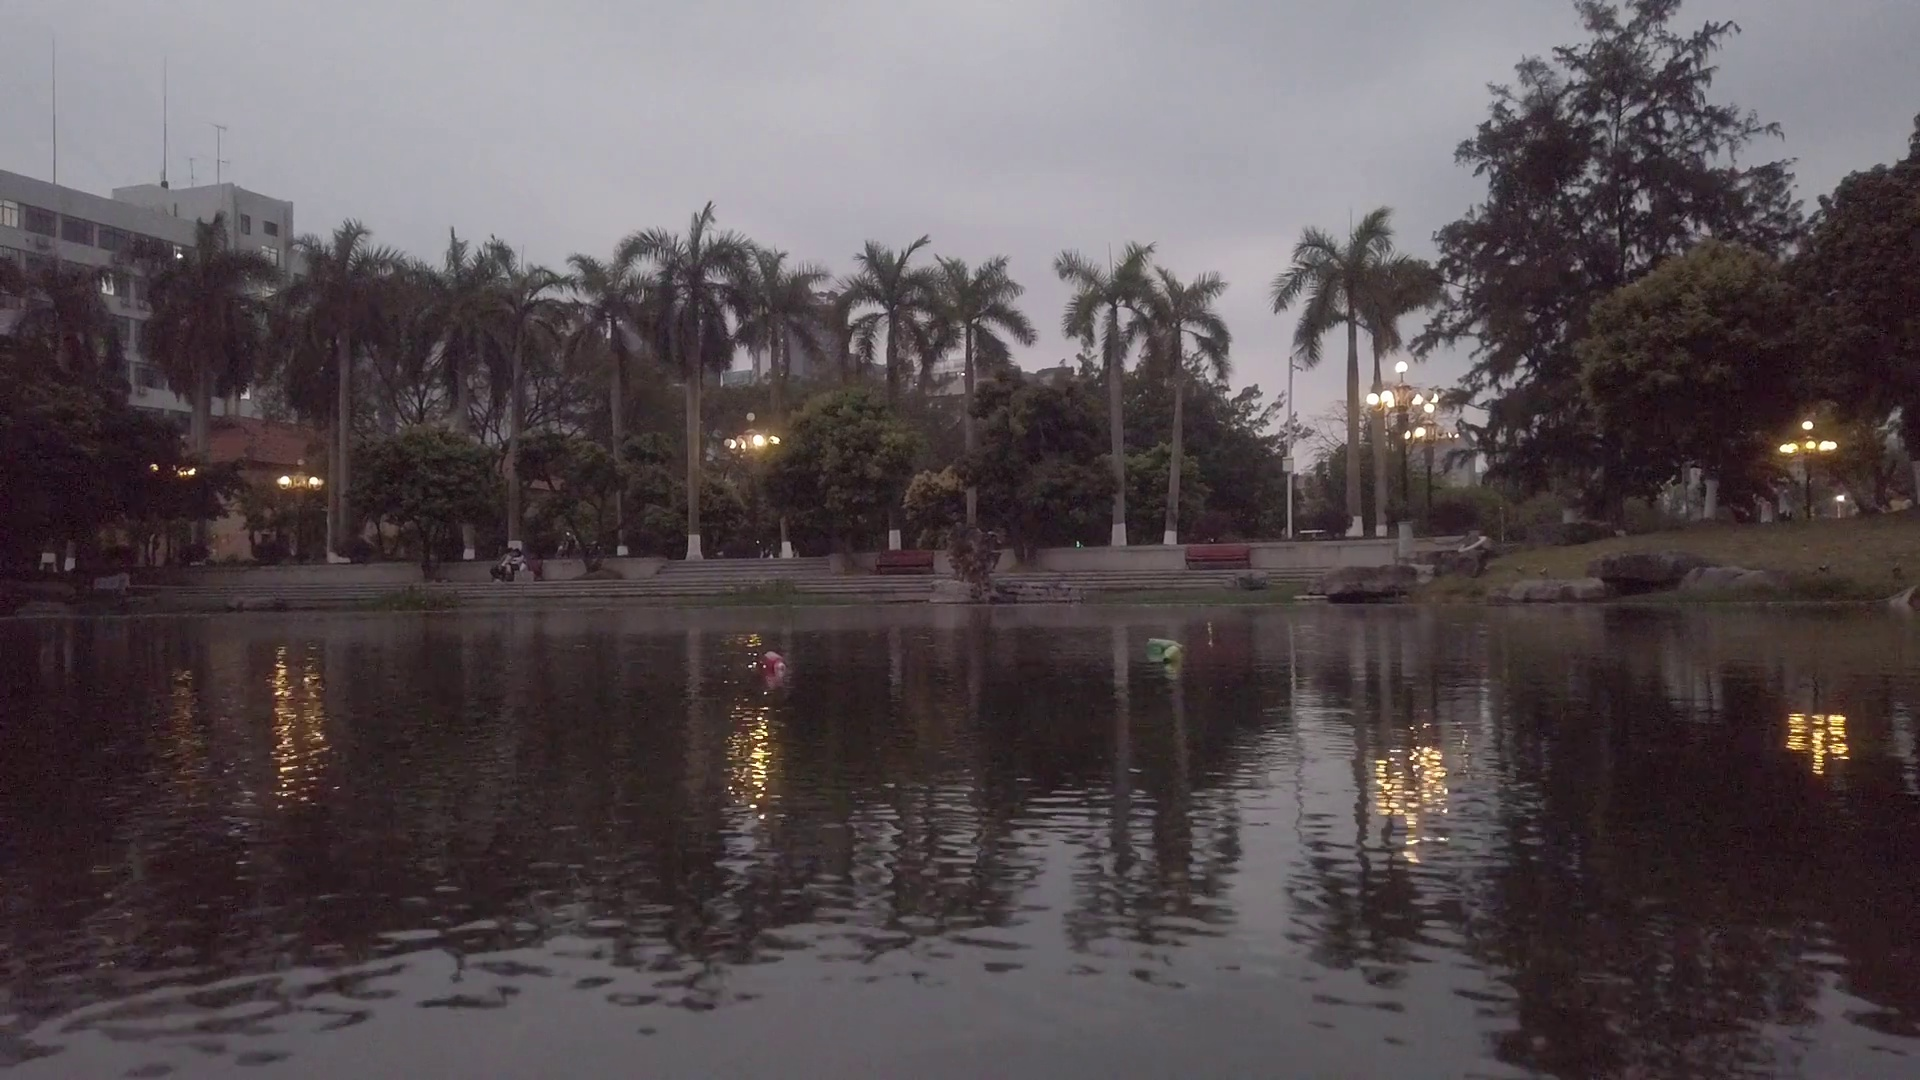bottle: (1147, 636, 1188, 654), (761, 651, 787, 676), (1163, 644, 1182, 666)
